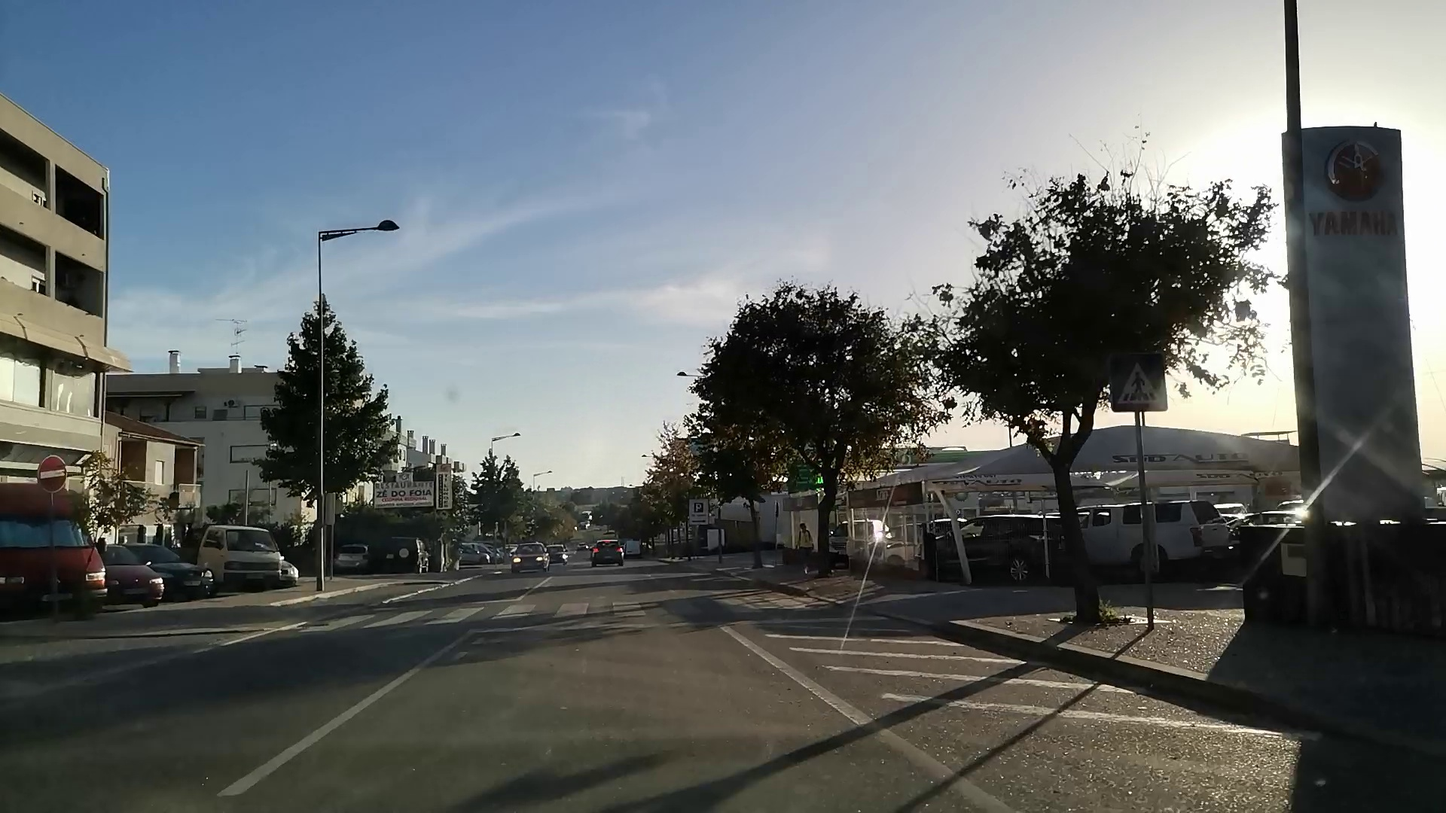Stairs: (299, 598, 720, 633)
